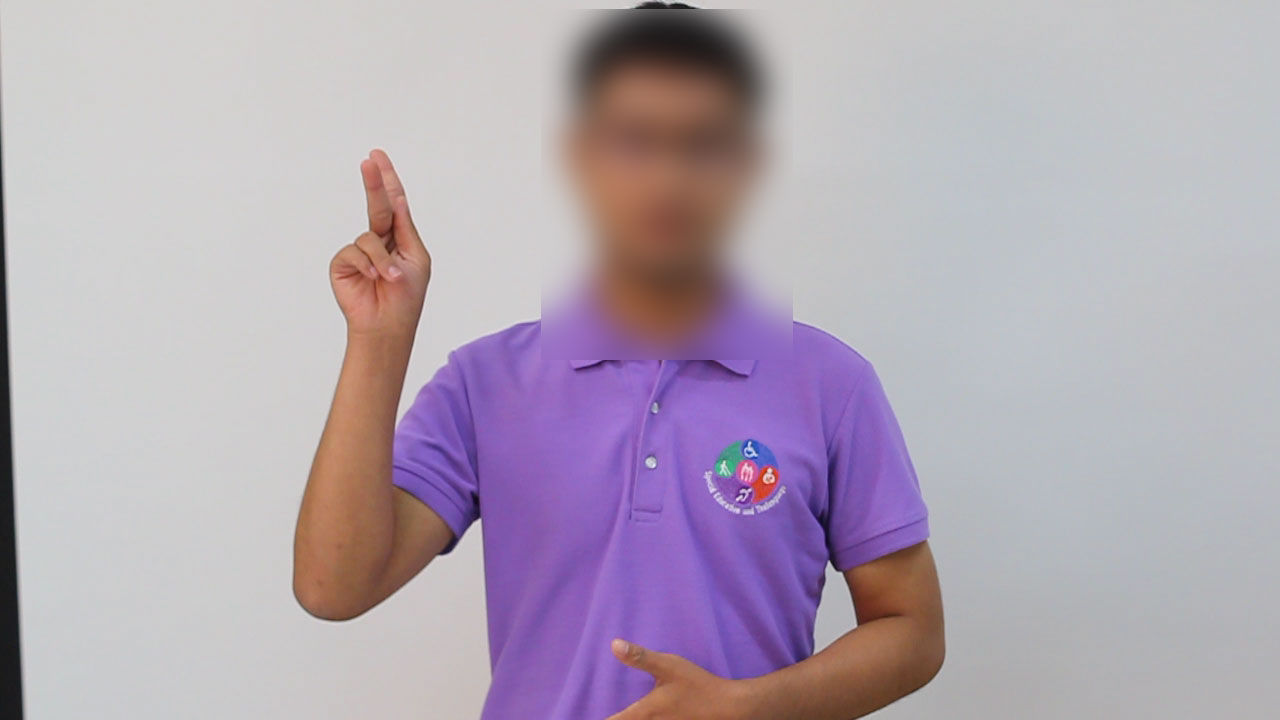ko: (281, 120, 480, 408)
